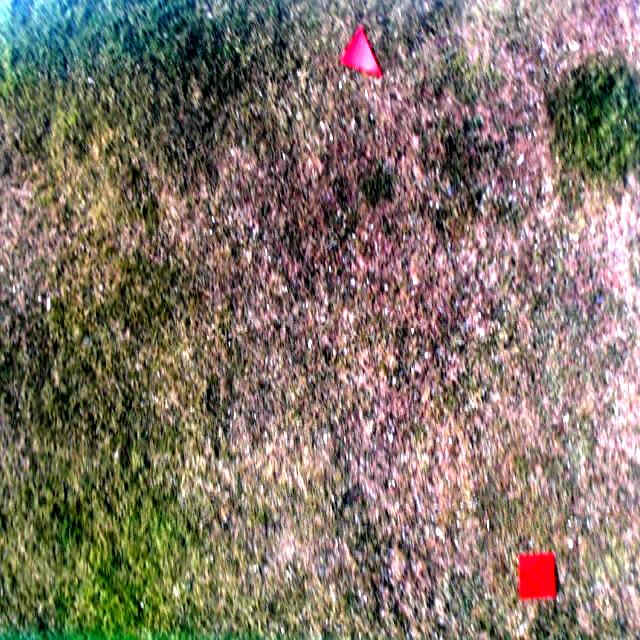red_square: (518, 555, 554, 596)
red_triangle: (339, 26, 384, 80)
